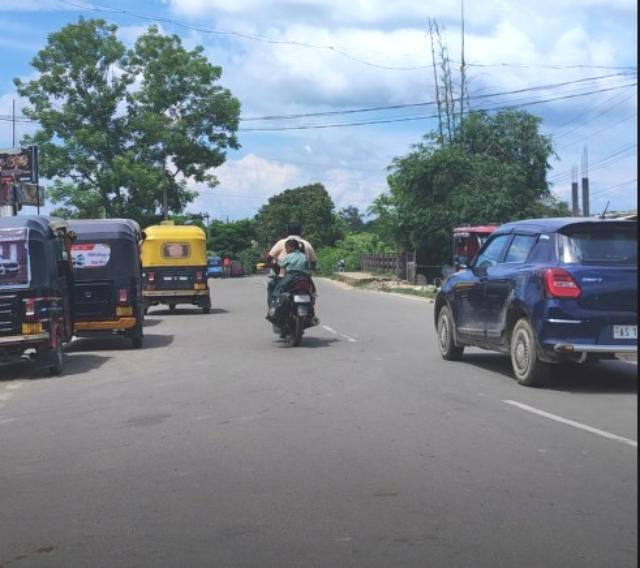licensePlate: (295, 294, 312, 305)
motorcycle: (261, 216, 321, 348)
withoutHelmet: (281, 218, 304, 234), (286, 240, 304, 254)
